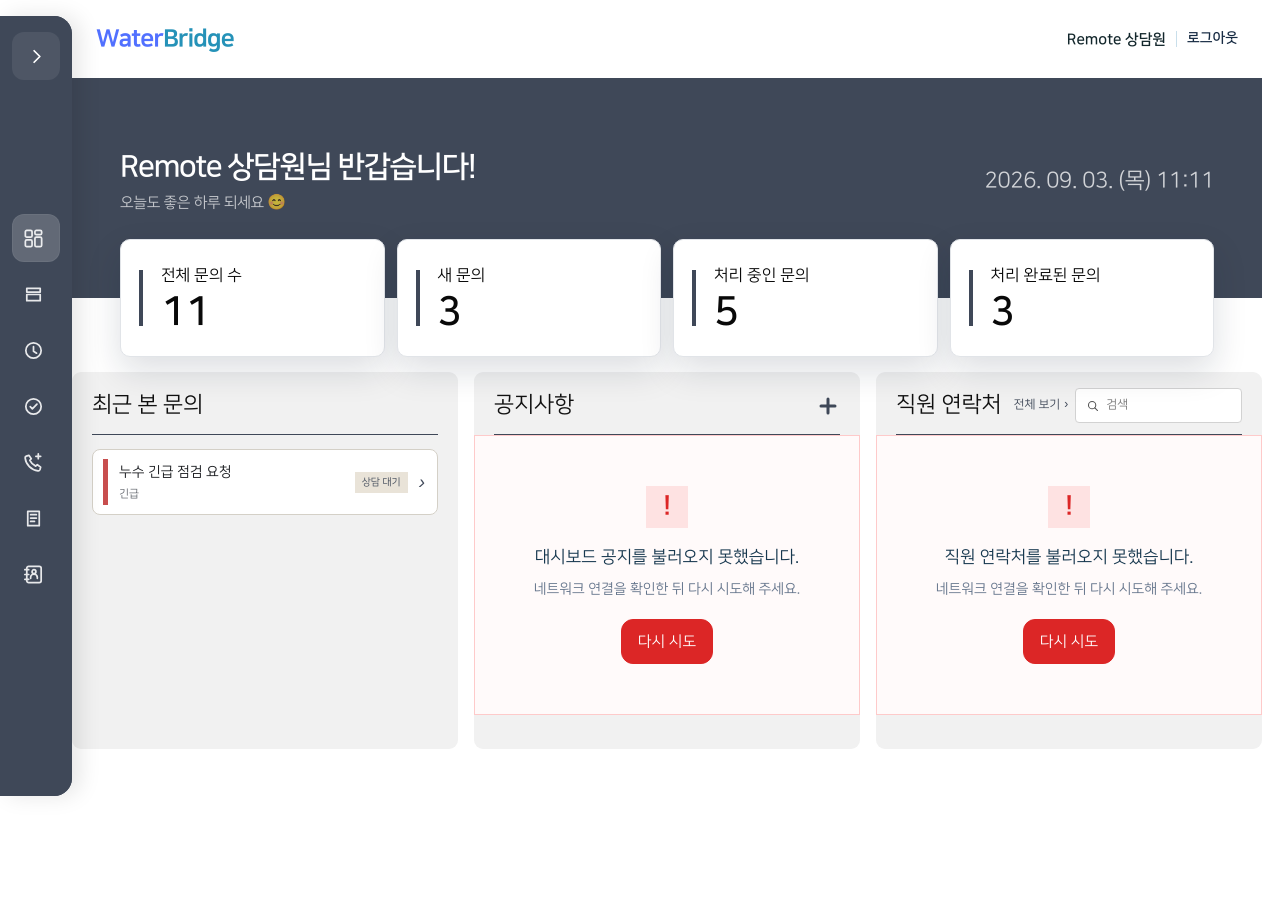
Test: 상담사 Remote 첫 상세 패널 경로 › Dashboard Runtime 오류에서는 Mock을 섞지 않고 재시도로 원격 데이터를 복구한다
This screenshot has width=1280, height=900.
Check: the text "대시보드 공지를 불러오지 못했습니다." is shown, box [535,544,799,570]
Check: the button named "전체 문의 수11" is enabled, box [120,239,384,357]
Click the button "다시 시도" below "대시보드 공지를 불러오지 못했습니다.".
click(667, 641)  # box [621,619,713,664]
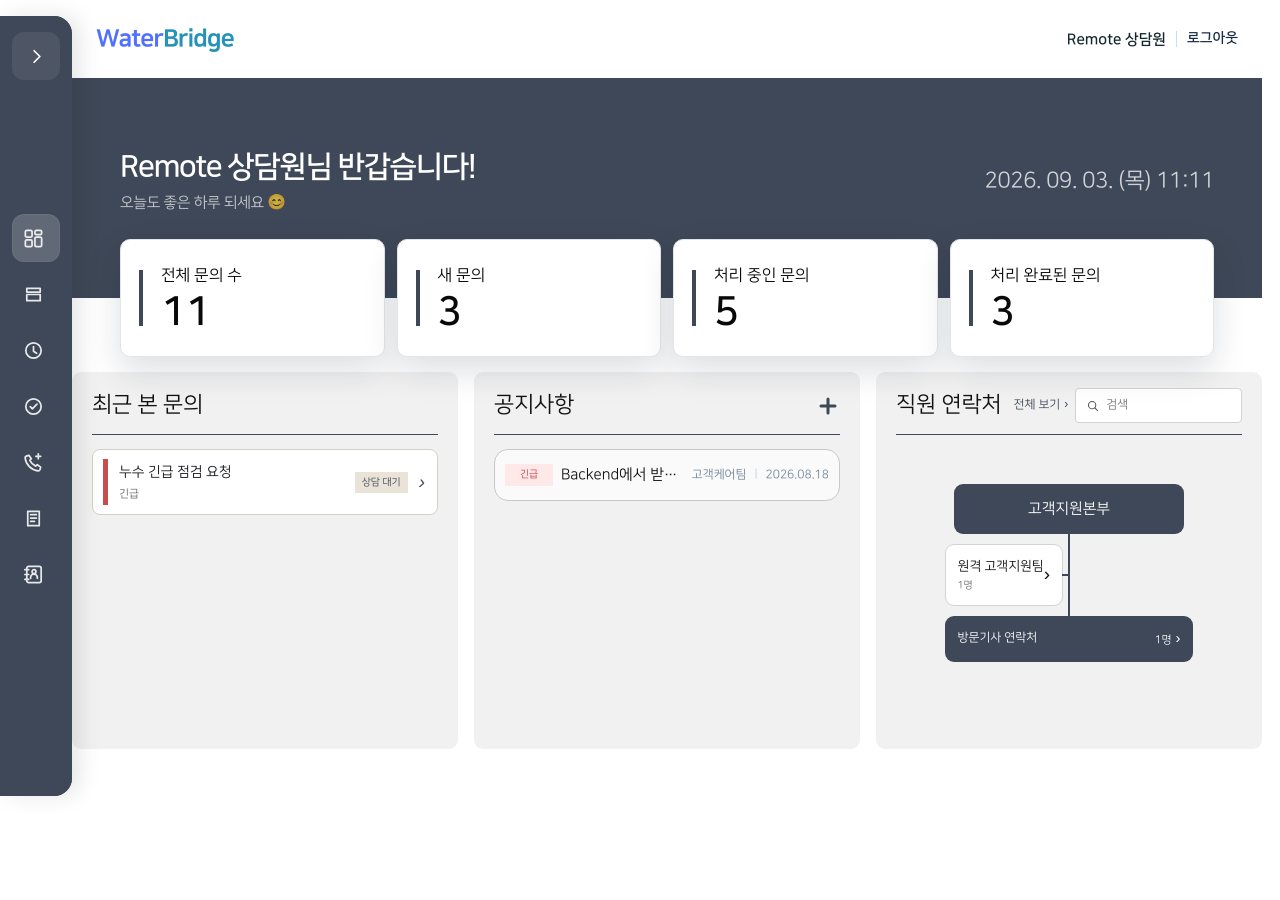
Check: the text "Backend에서 받은 상담사 공지" is shown, box [561,463,678,487]
